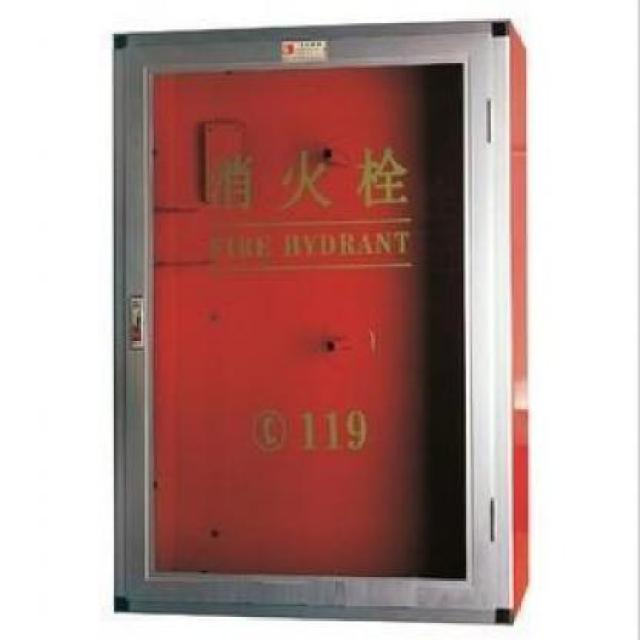firehydrant: (106, 12, 539, 636)
